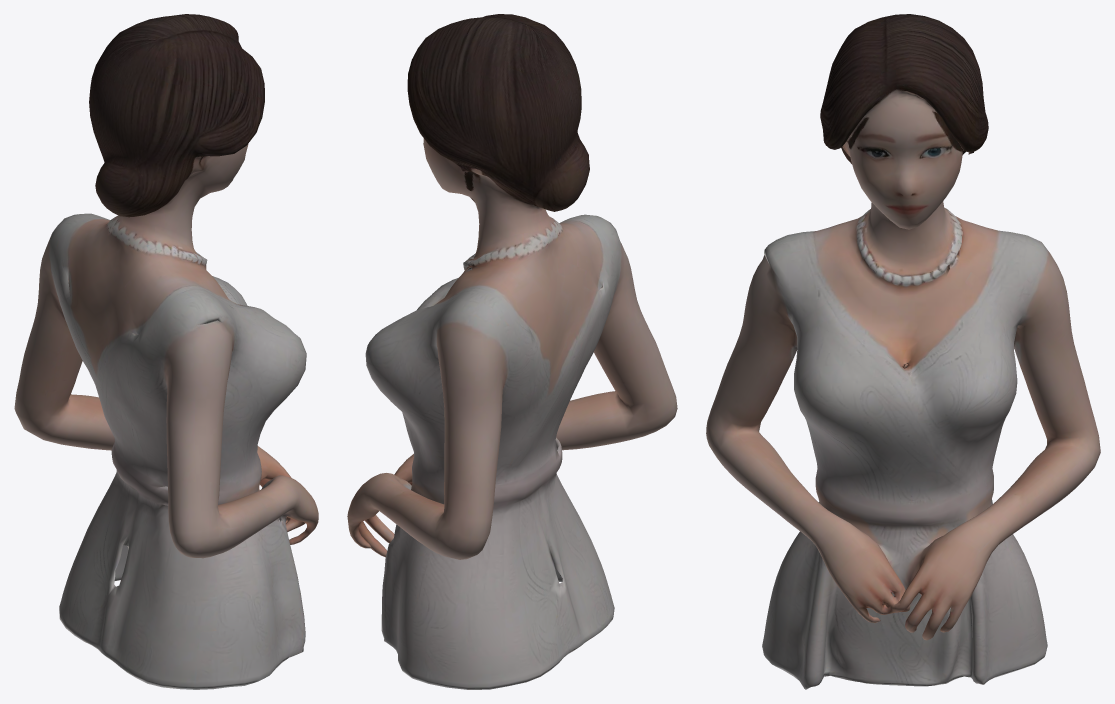
File: suspect_3.glb
3 views of the same model, side by side, from view 1: azimuth 30°, elevation 25°; view 2: azimuth 150°, elevation 25°; view 3: azimuth 270°, elevation 25° (orthographic). The views are drawn at different scales.
Visible parts, largest first — view 1: tripo_node_1d71918c-9661-40a1-ab48-d610a5e4ac6d; view 2: tripo_node_1d71918c-9661-40a1-ab48-d610a5e4ac6d; view 3: tripo_node_1d71918c-9661-40a1-ab48-d610a5e4ac6d.
Boxes of the visible parts, <box> form: tripo_node_1d71918c-9661-40a1-ab48-d610a5e4ac6d: <box>14,14,318,689</box>; tripo_node_1d71918c-9661-40a1-ab48-d610a5e4ac6d: <box>347,14,677,689</box>; tripo_node_1d71918c-9661-40a1-ab48-d610a5e4ac6d: <box>706,14,1100,689</box>.
Size of the model in its own units: 0.3738 by 0.9978 by 0.5694.
Materials: 1 (1 with a texture image).
